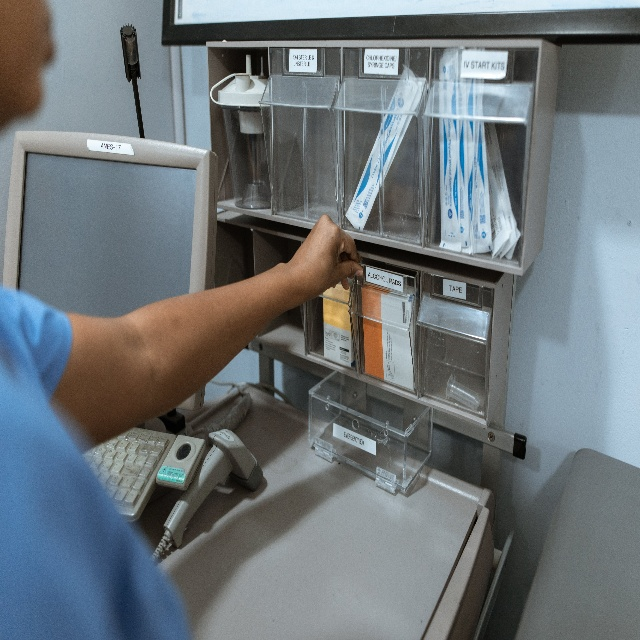Sin_guantes: (291, 213, 364, 305)
